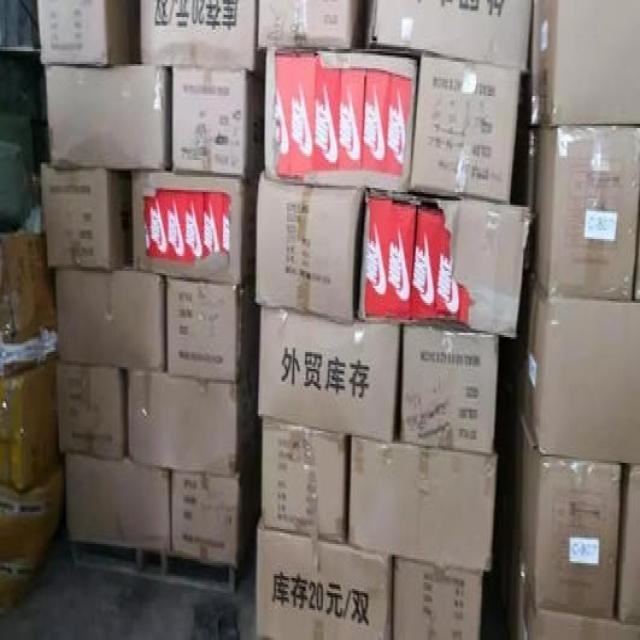box: (359, 190, 533, 337), (264, 47, 417, 194), (522, 277, 640, 467), (516, 416, 621, 617), (348, 435, 498, 574), (257, 307, 401, 442), (532, 126, 640, 301), (411, 53, 522, 205), (256, 516, 392, 640), (256, 175, 364, 324), (133, 171, 256, 286), (45, 64, 174, 173), (536, 0, 640, 132), (129, 369, 254, 476), (401, 324, 499, 457), (368, 0, 533, 73), (57, 269, 164, 375), (511, 553, 640, 640), (172, 68, 265, 181), (0, 459, 66, 617), (66, 454, 172, 550), (40, 164, 134, 271), (262, 420, 345, 540), (168, 275, 253, 382), (140, 0, 257, 73), (0, 228, 57, 373), (0, 361, 59, 493), (391, 555, 482, 640), (54, 361, 128, 463), (36, 0, 142, 66), (171, 469, 239, 565), (256, 0, 360, 51), (610, 463, 640, 629)
